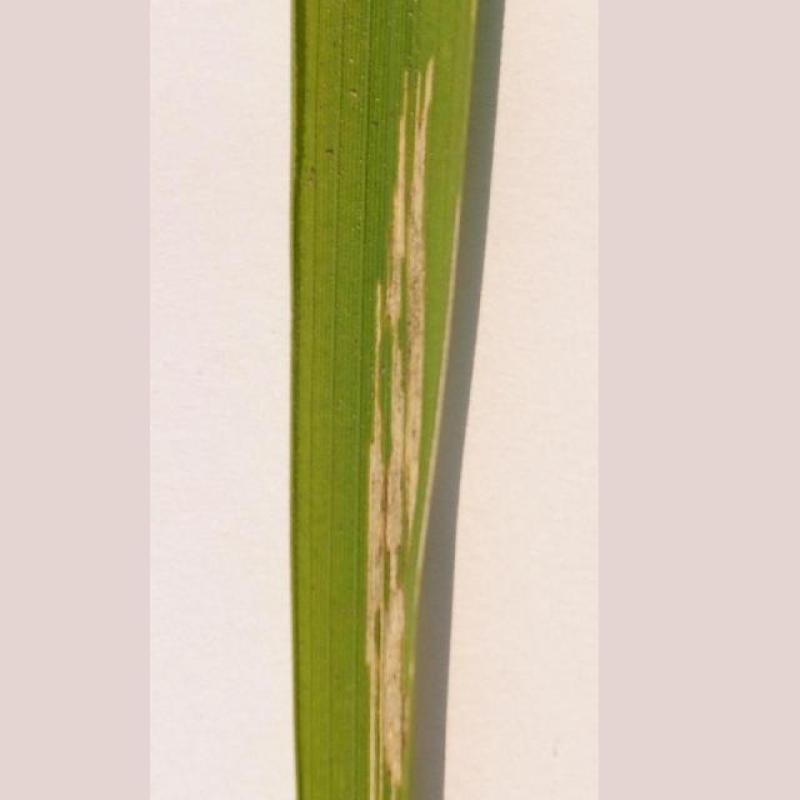Bacterial_Leaf_Blight: (327, 67, 452, 800)
